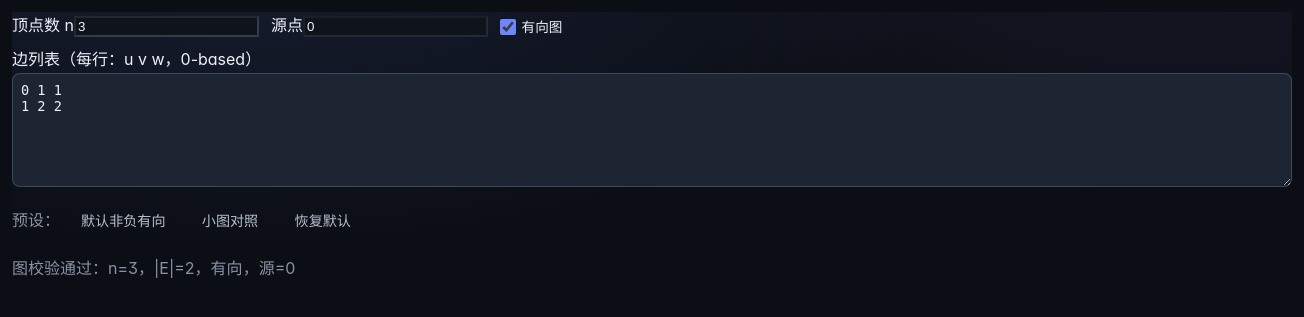
UI-04 GraphInput controlled draft › illegal edge text does not keep previous edges runnable
expect the text "图校验通过：n=3，|E|=2，有向，源=0" is shown: met, box [12,258,295,278]
Replace the text in the text box labelled "边列表（每行：u v w，0-based）" with "not valid edges": (652,130) [12,73,1292,187]
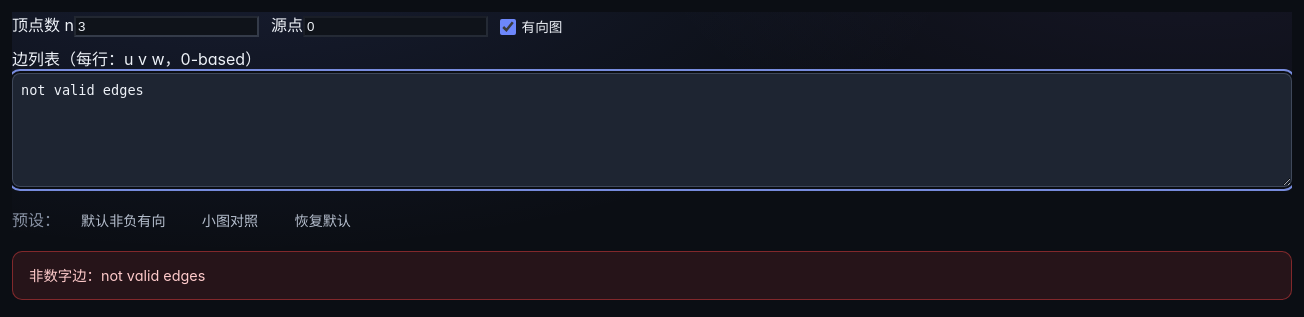
expect the text "图校验通过" is gone: met
expect the message "非数字边：not valid edges" is shown: met, box [12,250,1292,300]
